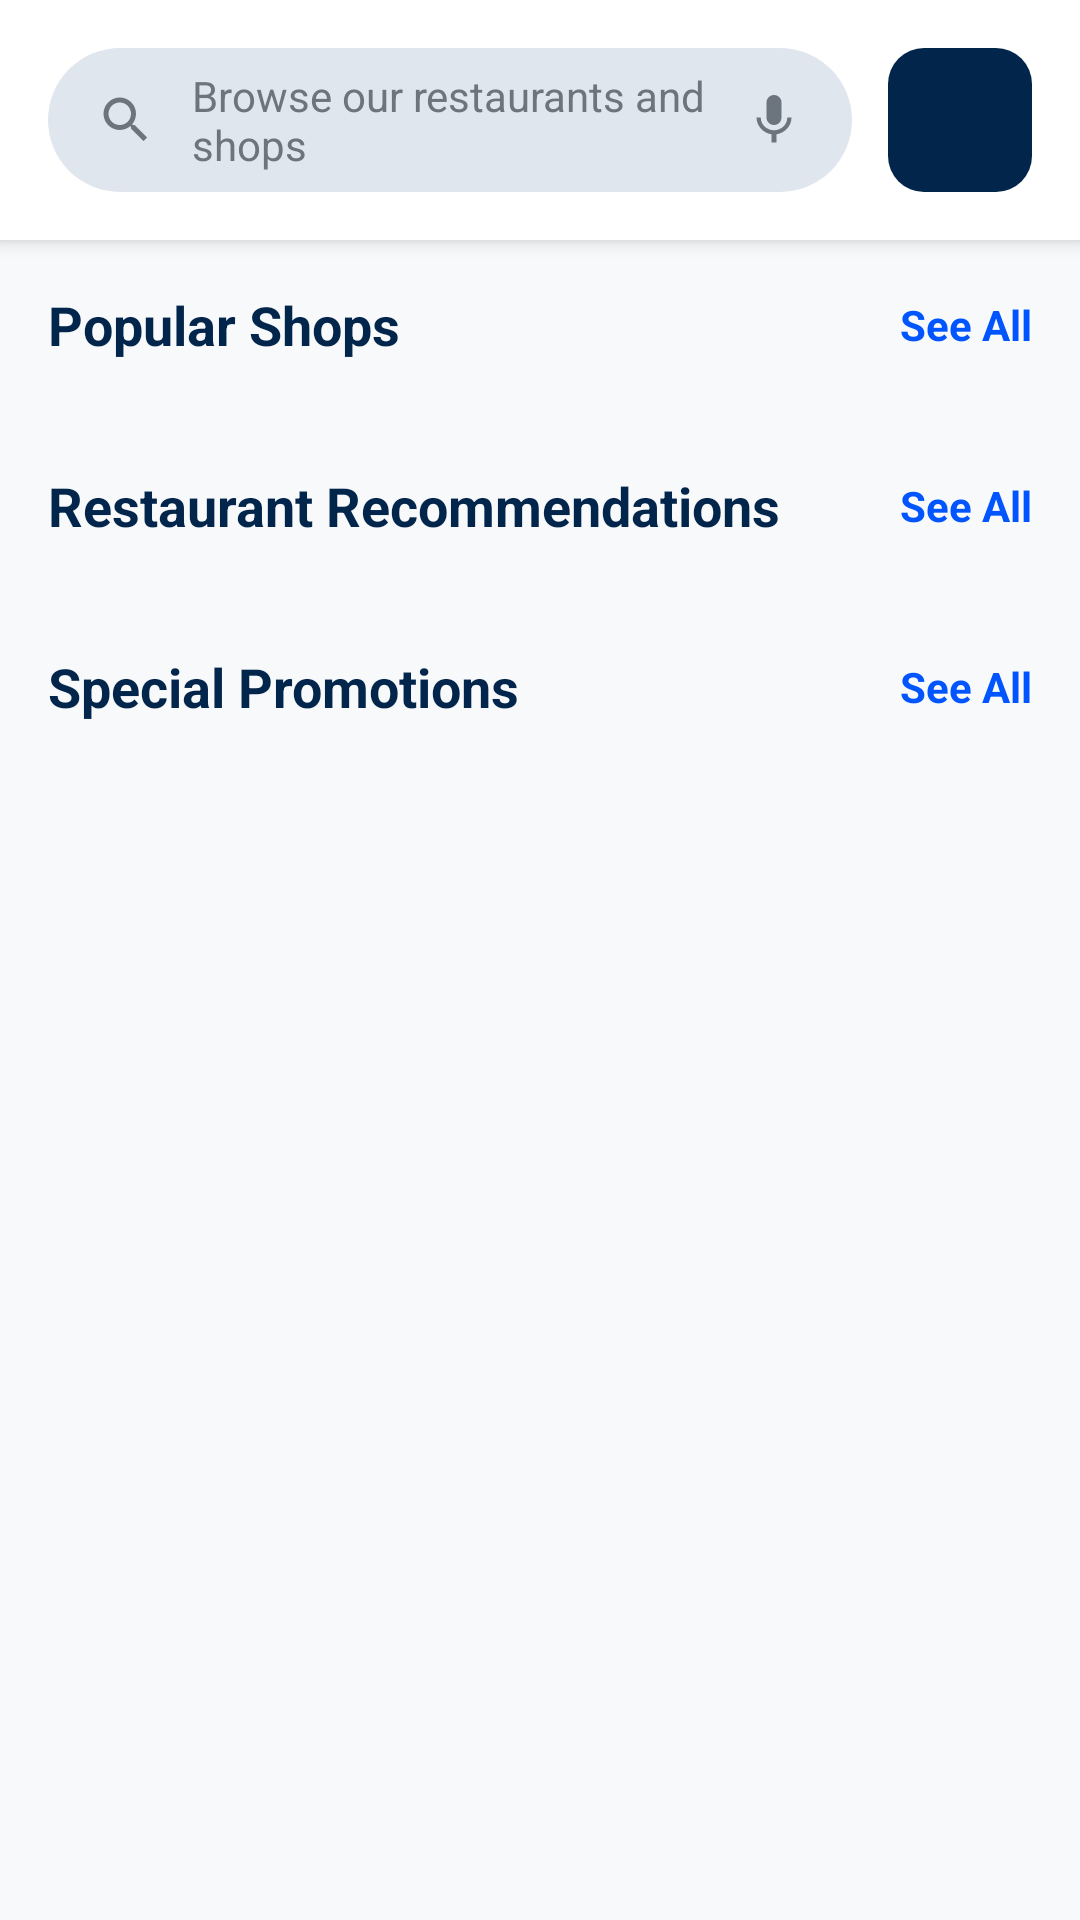

Icons on this 1080x1920 Android screen, each with the point to tap as [x,y]:
mic: [774,119]
search: [125,119]
